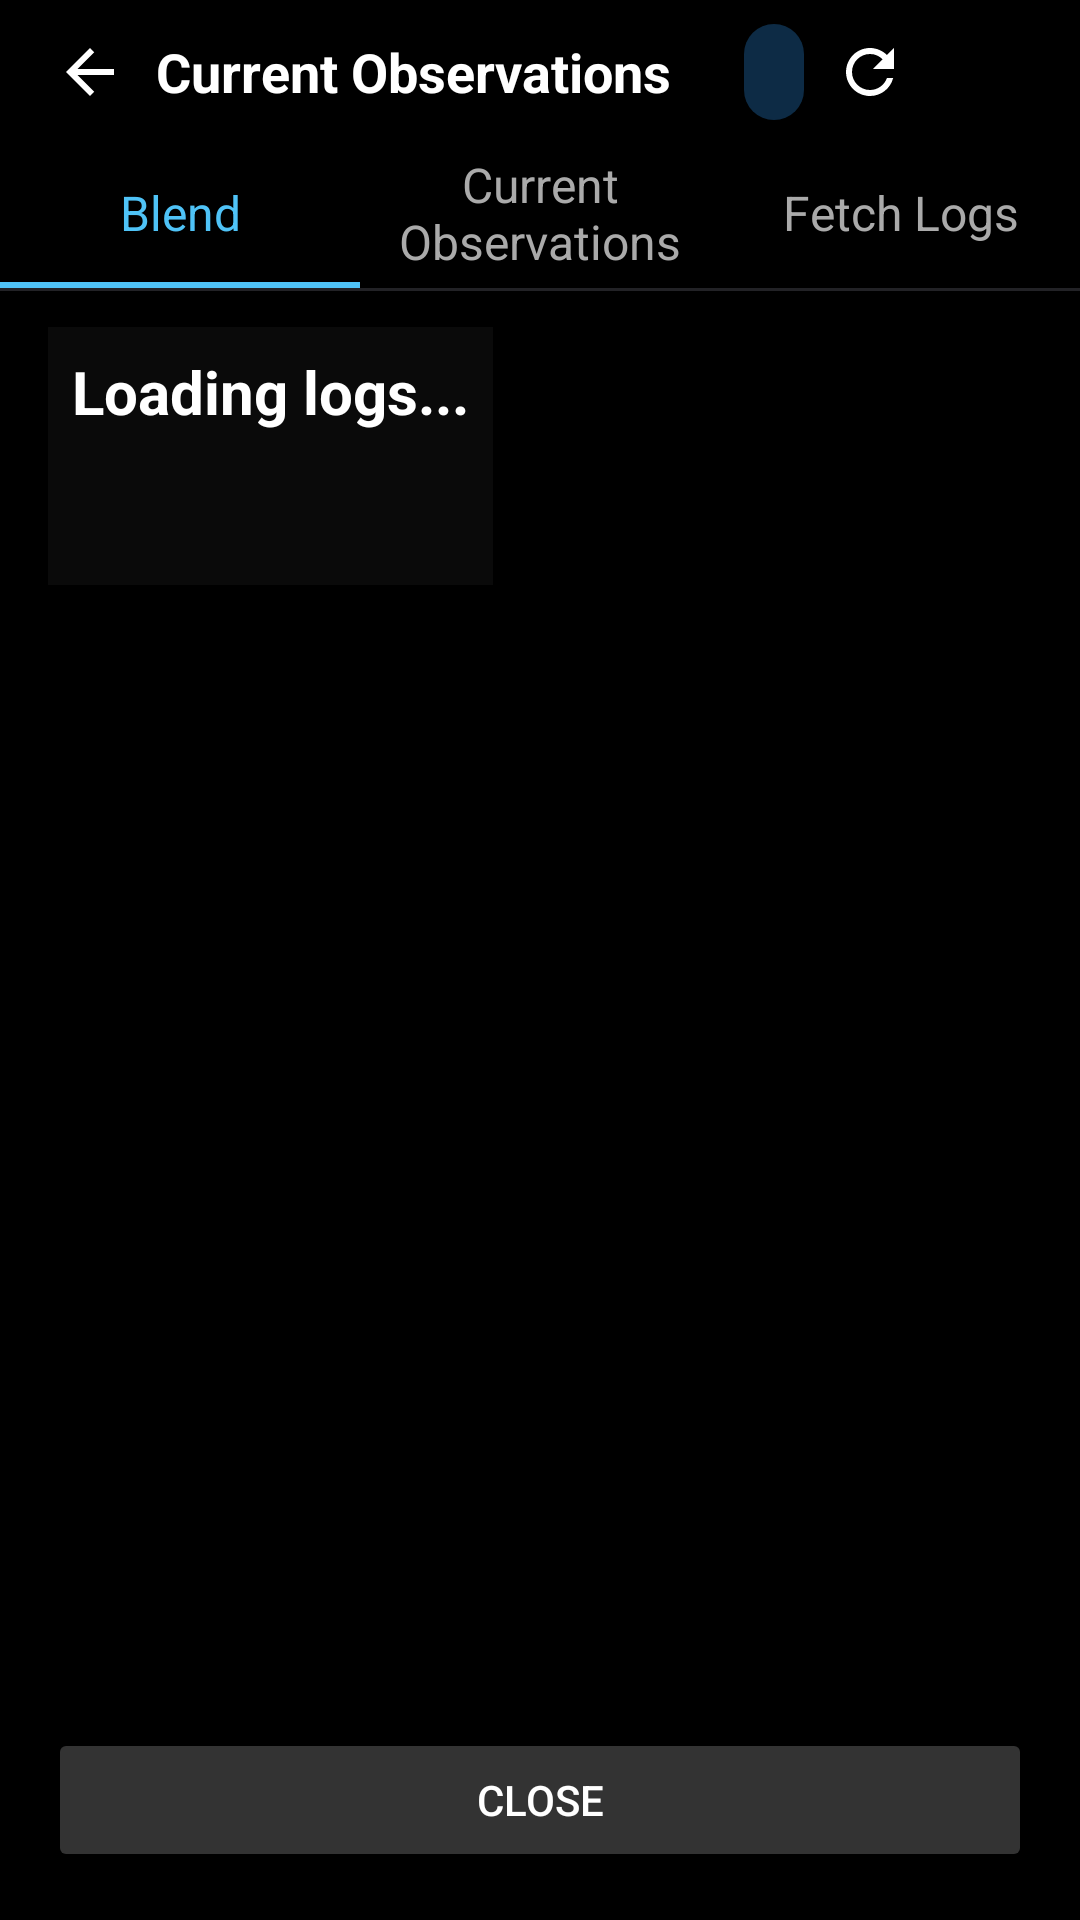

Point at icon controls on the screen. Image size 1080px×1920px, points as [x,y].
Back: [90,72]
Refresh: [870,72]
